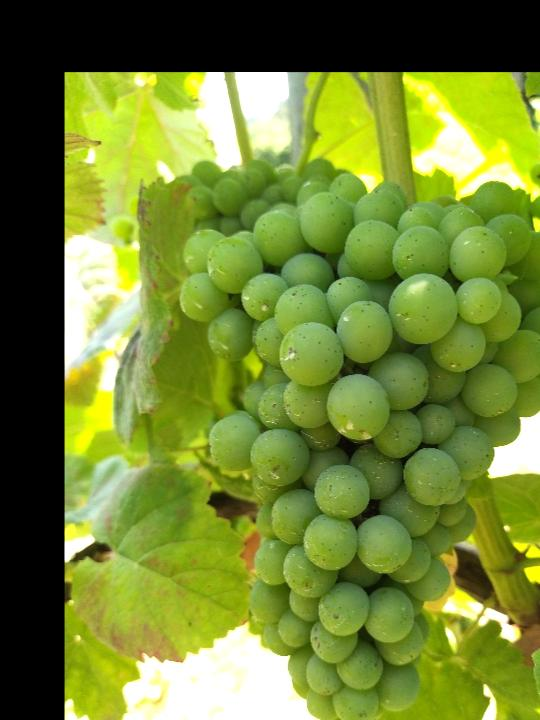grape: (177, 174, 540, 720)
